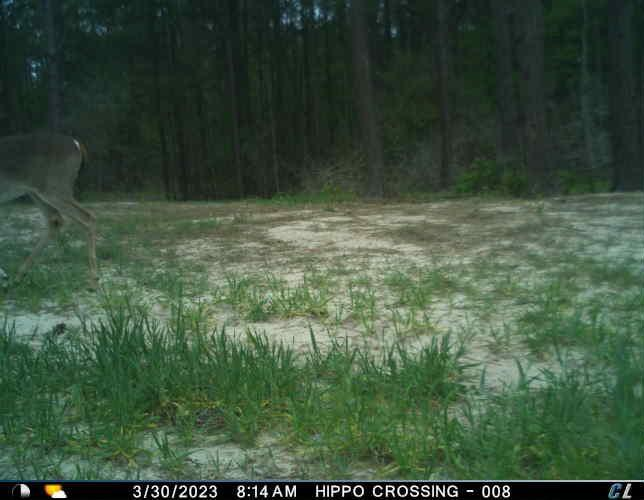Deer: (0, 129, 101, 294)
